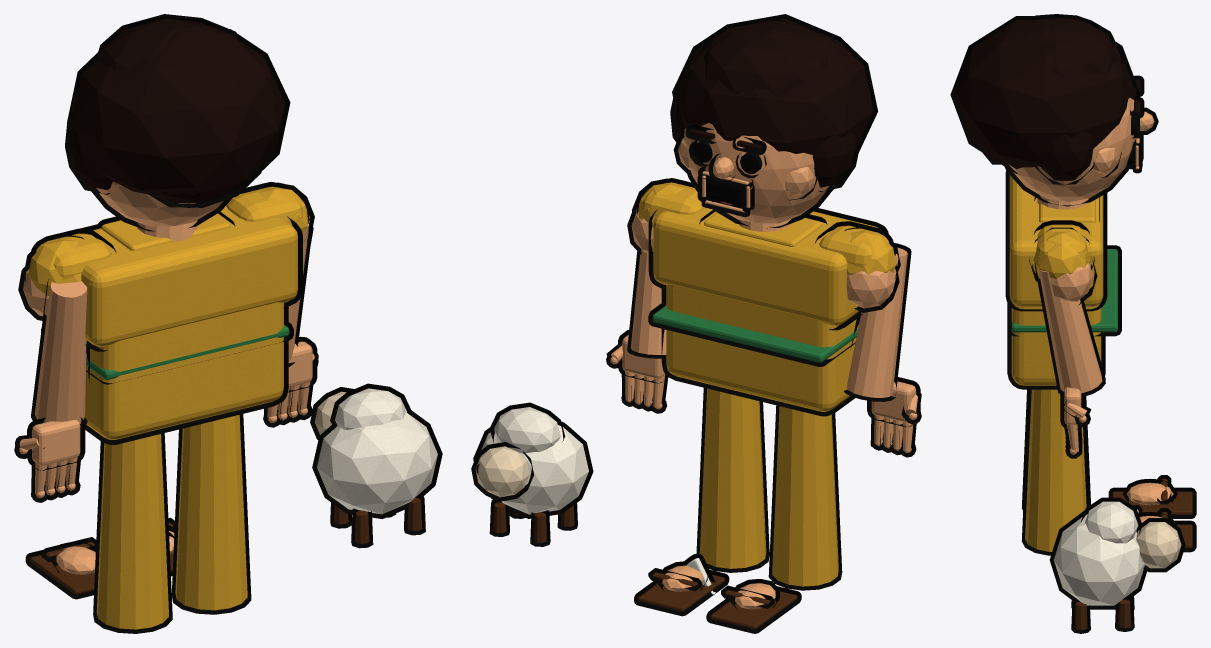
File: david_mentor_v11.glb
The picture shows the model from 3 angles, left to right: view 1: azimuth 30°, elevation 25°; view 2: azimuth 150°, elevation 25°; view 3: azimuth 270°, elevation 25°; orthographic projection. The views are drawn at different scales.
Parts seen in each view (by area): view 1: David_Mentor, David_Mentor_Outline; view 2: David_Mentor, David_Mentor_Outline; view 3: David_Mentor, David_Mentor_Outline.
Boxes of the visible parts, box(x1,y1,x2,y2) form: David_Mentor: box(19, 19, 437, 629); David_Mentor_Outline: box(14, 14, 442, 633); David_Mentor: box(475, 18, 917, 629); David_Mentor_Outline: box(471, 14, 921, 633); David_Mentor: box(954, 18, 1192, 630); David_Mentor_Outline: box(950, 14, 1196, 633).
Bounding box in the file's own units: 0.8494 × 1.06 × 0.4702.
Materials: 12 (12 with a texture image).
